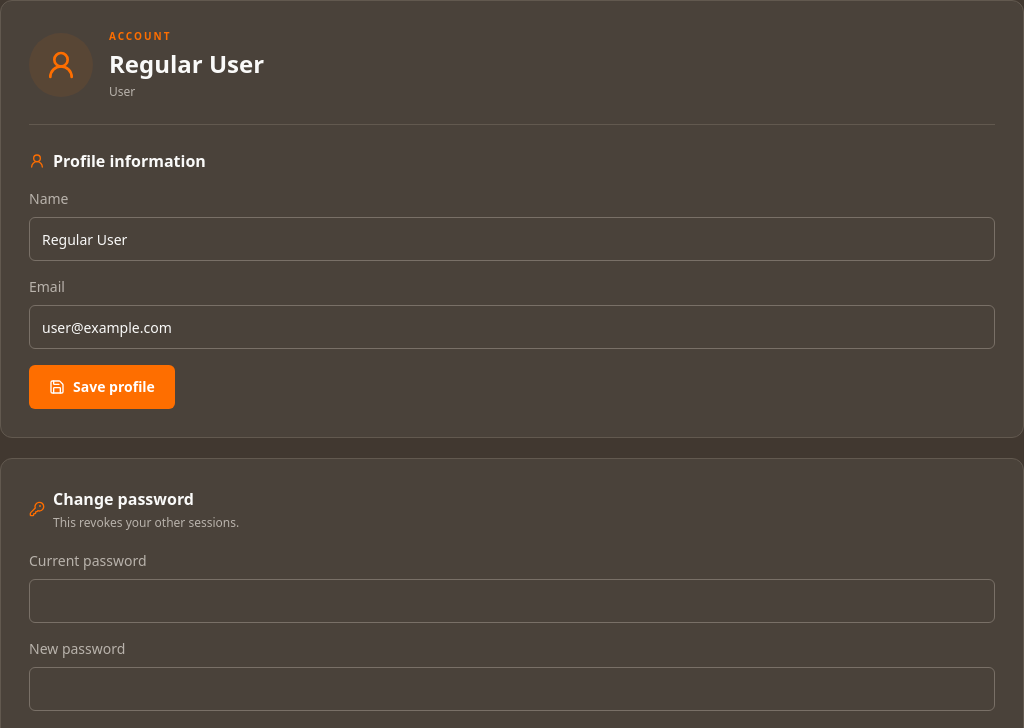
Test: ProfileSettings › persists name/email through the API and requires the password for email changes
Replace the text in the field labelled "Name" with "  Persisted Name  ". click: (512, 239)
box: [29,217,995,261]
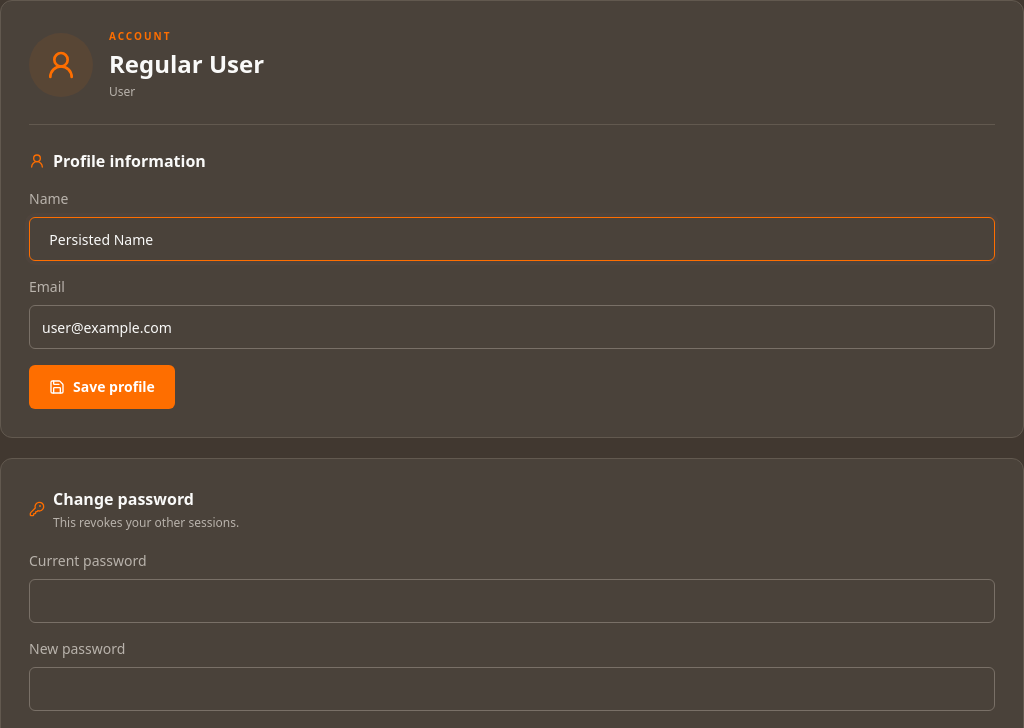
Replace the text in the field labelled "Email" with "persisted@example.com". click: (512, 327)
box: [29,305,995,349]
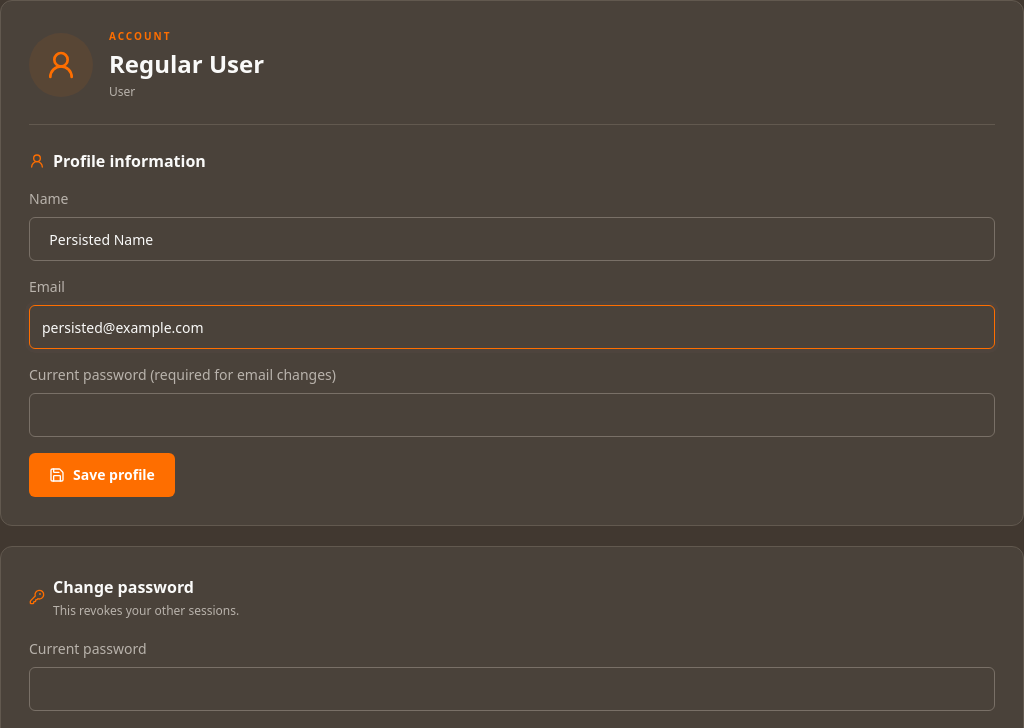
Click the button "Save profile". click: (102, 475)
box: [29,453,175,497]
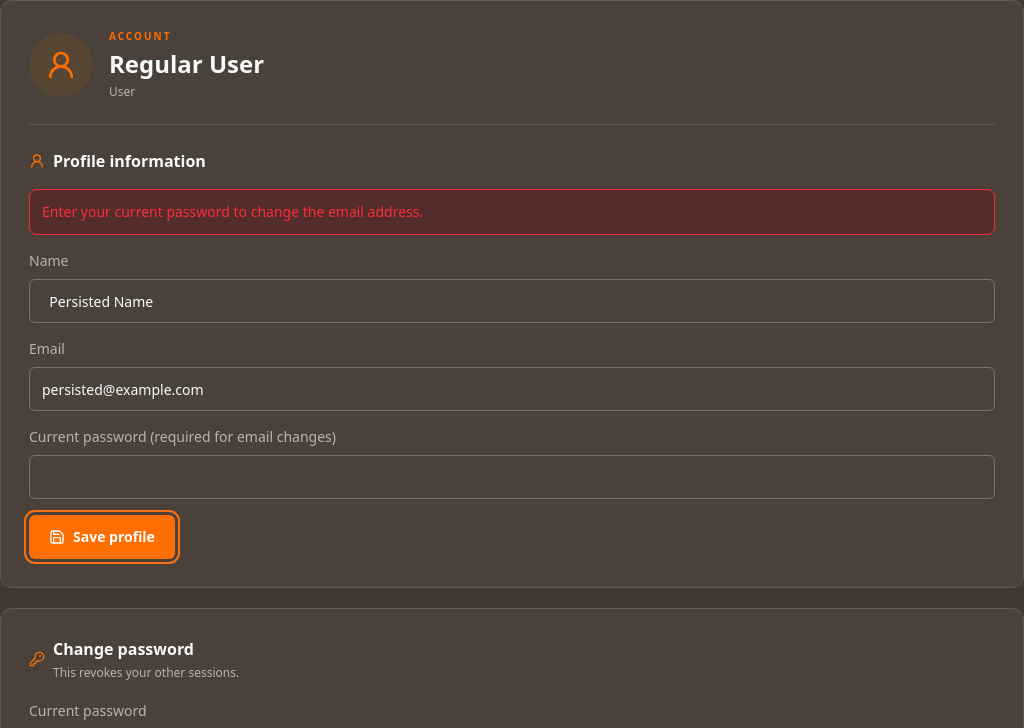
Expected: the text "Enter your current password to change the email address." is shown, [29,189,995,235]
Type "CurrentPassword1!" into the password field labelled "Current password (required for email changes)". click: (512, 477)
box: [29,455,995,499]
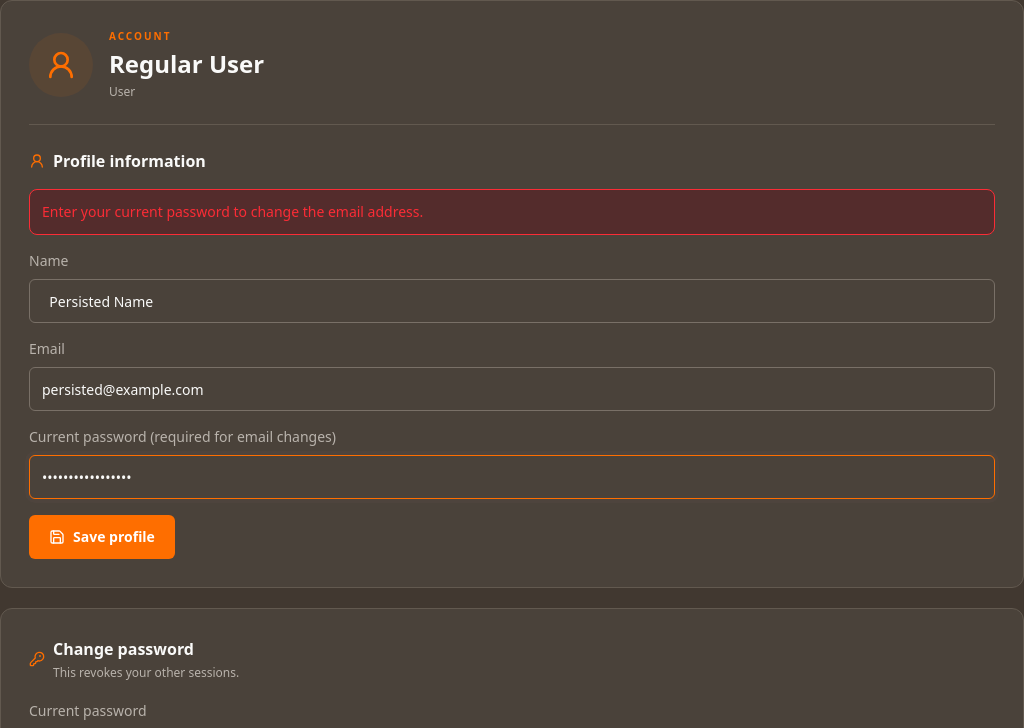
Click the button "Save profile". click: (102, 537)
box: [29,515,175,559]
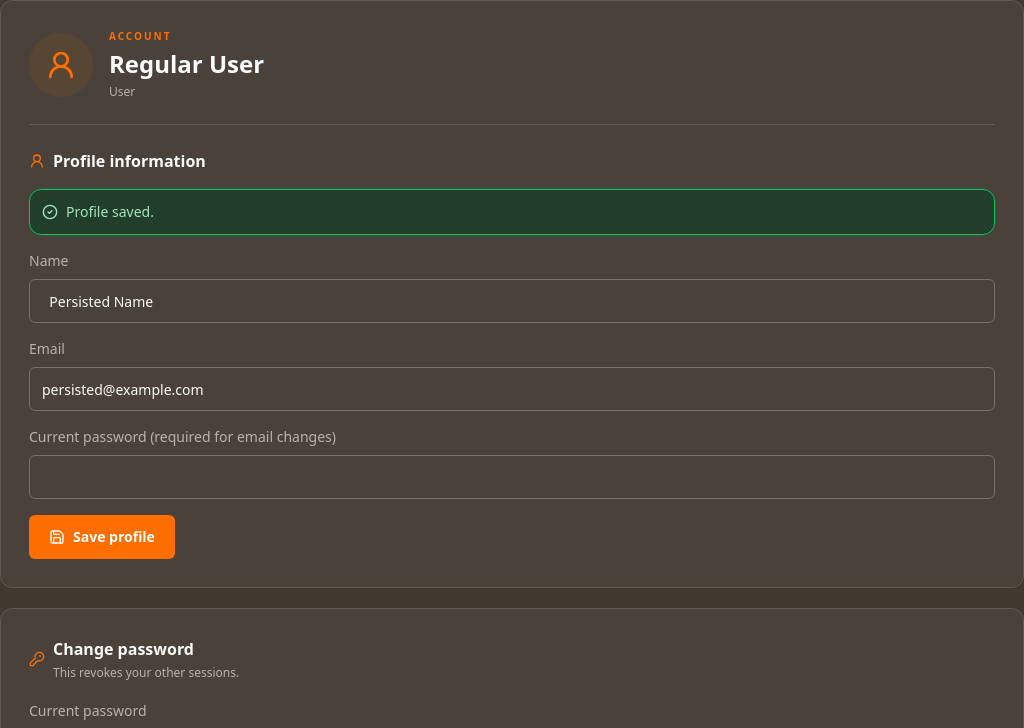
Expected: the text "Profile saved." is shown, [29,189,995,235]
